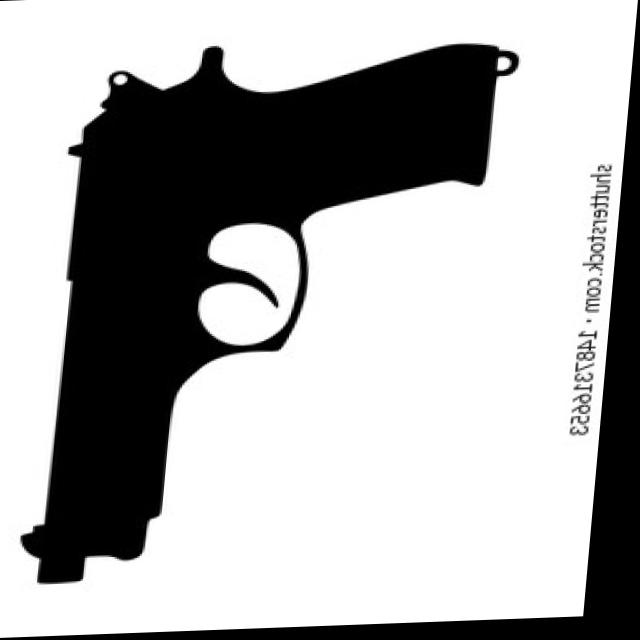handgun: (26, 36, 523, 583)
